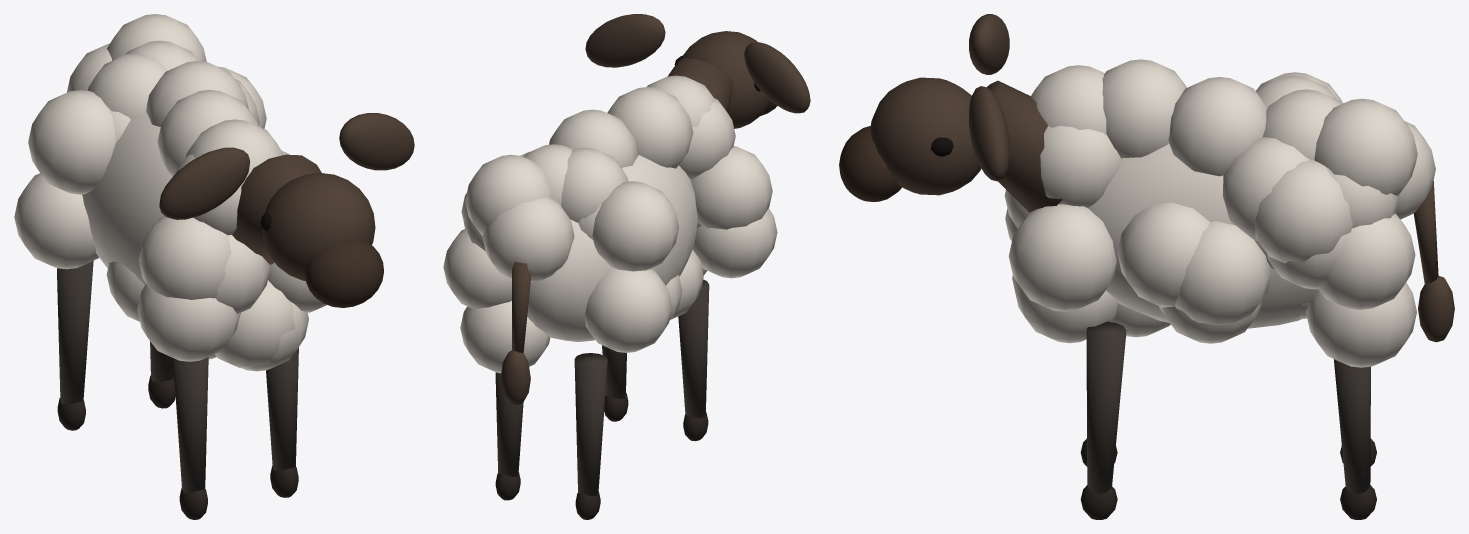
Rendered from awassi.glb.
3 renders of one model, left to right at view 1: azimuth 30°, elevation 25°; view 2: azimuth 150°, elevation 25°; view 3: azimuth 270°, elevation 25°, orthographic. The views are drawn at different scales.
Visible parts, largest first — view 1: awassi; view 2: awassi; view 3: awassi.
Boxes of the visible parts, x1,y1,x2,y2 form: awassi: [14, 14, 414, 519]; awassi: [443, 14, 810, 519]; awassi: [839, 14, 1454, 519].
Bounding box in the file's own units: 0.8393 × 1.31 × 1.66.
